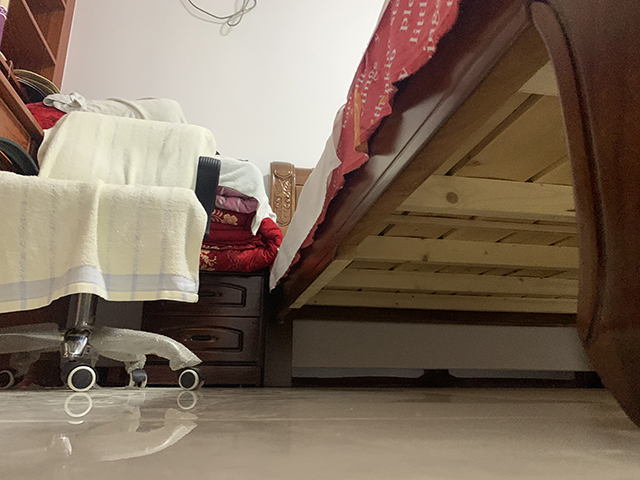bed: (263, 1, 640, 424)
cabinet: (145, 270, 265, 389)
stool: (1, 109, 222, 393)
